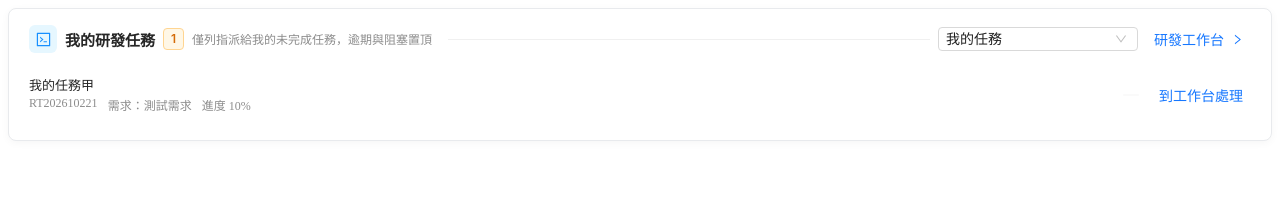
Test case: 研发工作台 · 我的研發任務面板 › 无共同项目时展示后端原文，不伪装成空任务
This screenshot has width=1280, height=198.
Expected: the text "我的任務甲" is shown, top-left (29, 78), bottom-right (94, 93)
Press the mouse on the dropdown named "切換查看成員" at [1029, 39], box top-left (946, 28), bottom-right (1112, 50)
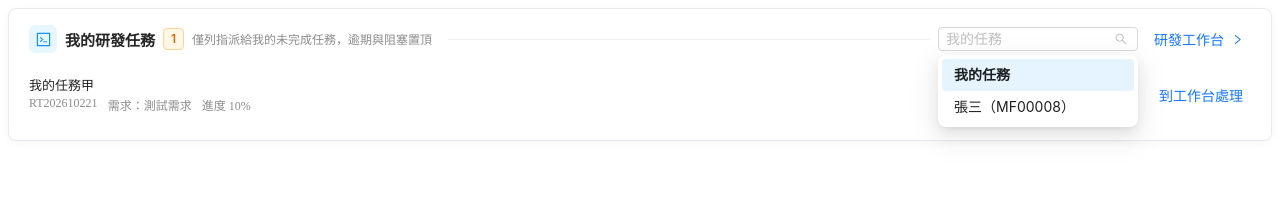
Click the text "張三（MF00008）".
click(1014, 106)  # box top-left (954, 98), bottom-right (1075, 115)
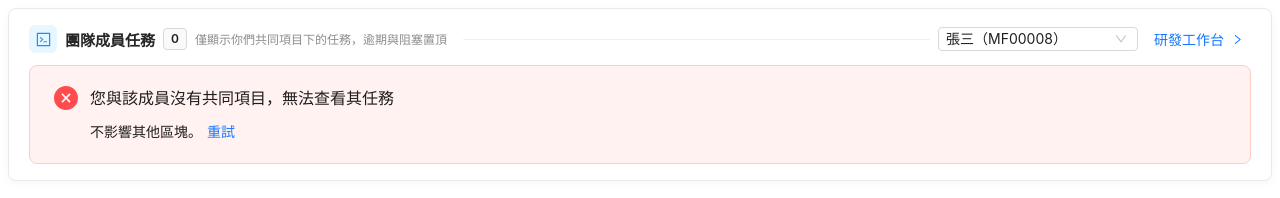
Expected: the text "您與該成員沒有共同項目，無法查看其任務" is shown, top-left (90, 88), bottom-right (394, 108)
